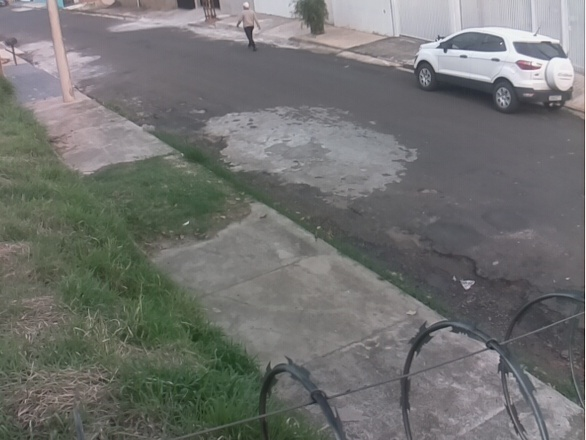person: (236, 1, 262, 52)
